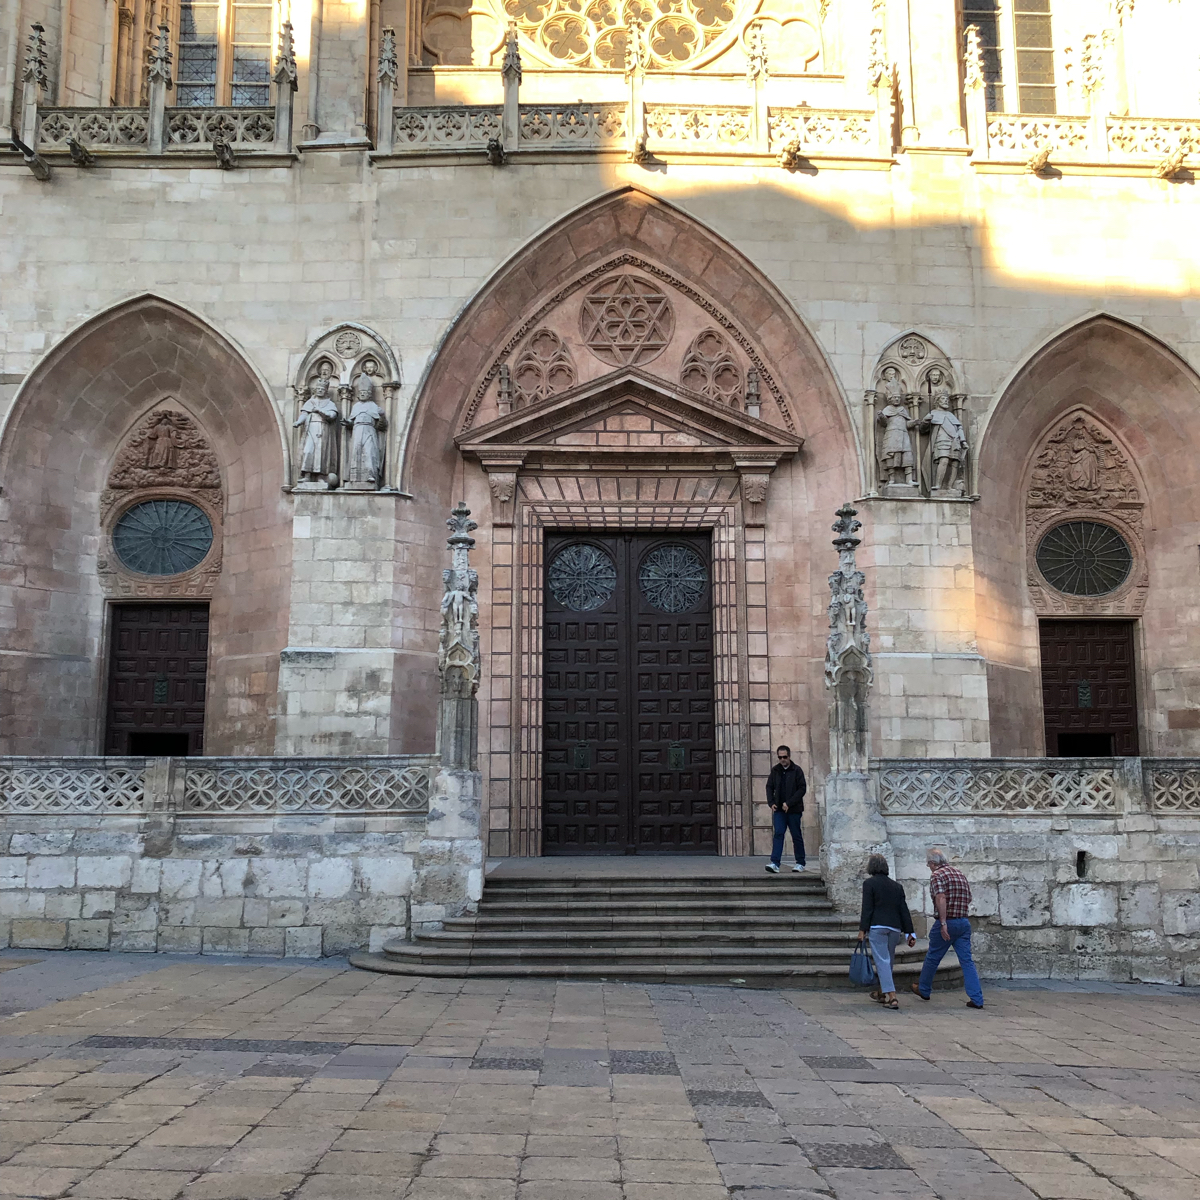arco-apuntado: (402, 173, 819, 384), (1, 274, 300, 527), (964, 305, 1200, 508), (289, 316, 392, 395), (864, 324, 968, 391)
fronton: (444, 360, 809, 462)
vano-adintelado: (512, 496, 749, 862)
